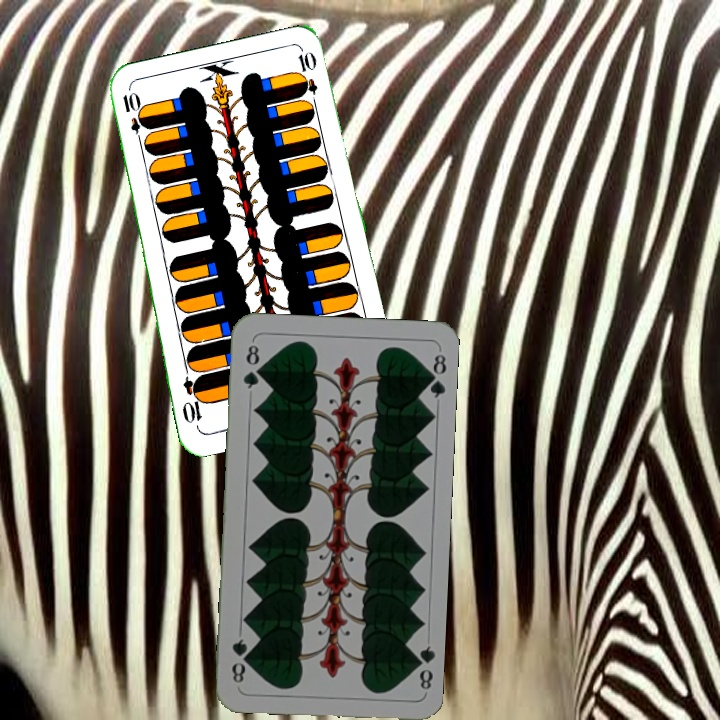E10: (118, 88, 148, 147)
G8: (408, 642, 436, 692), (239, 337, 263, 391)
